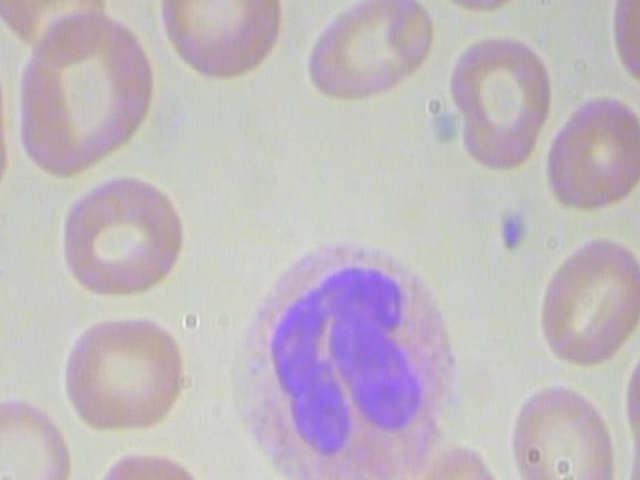Platelets: (494, 208, 540, 256)
RBC: (13, 12, 159, 183), (433, 28, 571, 168), (52, 166, 190, 306), (56, 302, 193, 442), (303, 0, 441, 109), (533, 230, 640, 370), (547, 81, 640, 219), (513, 377, 624, 480), (150, 0, 287, 82), (0, 393, 74, 480), (405, 0, 543, 14)
WBC: (218, 220, 466, 480)
